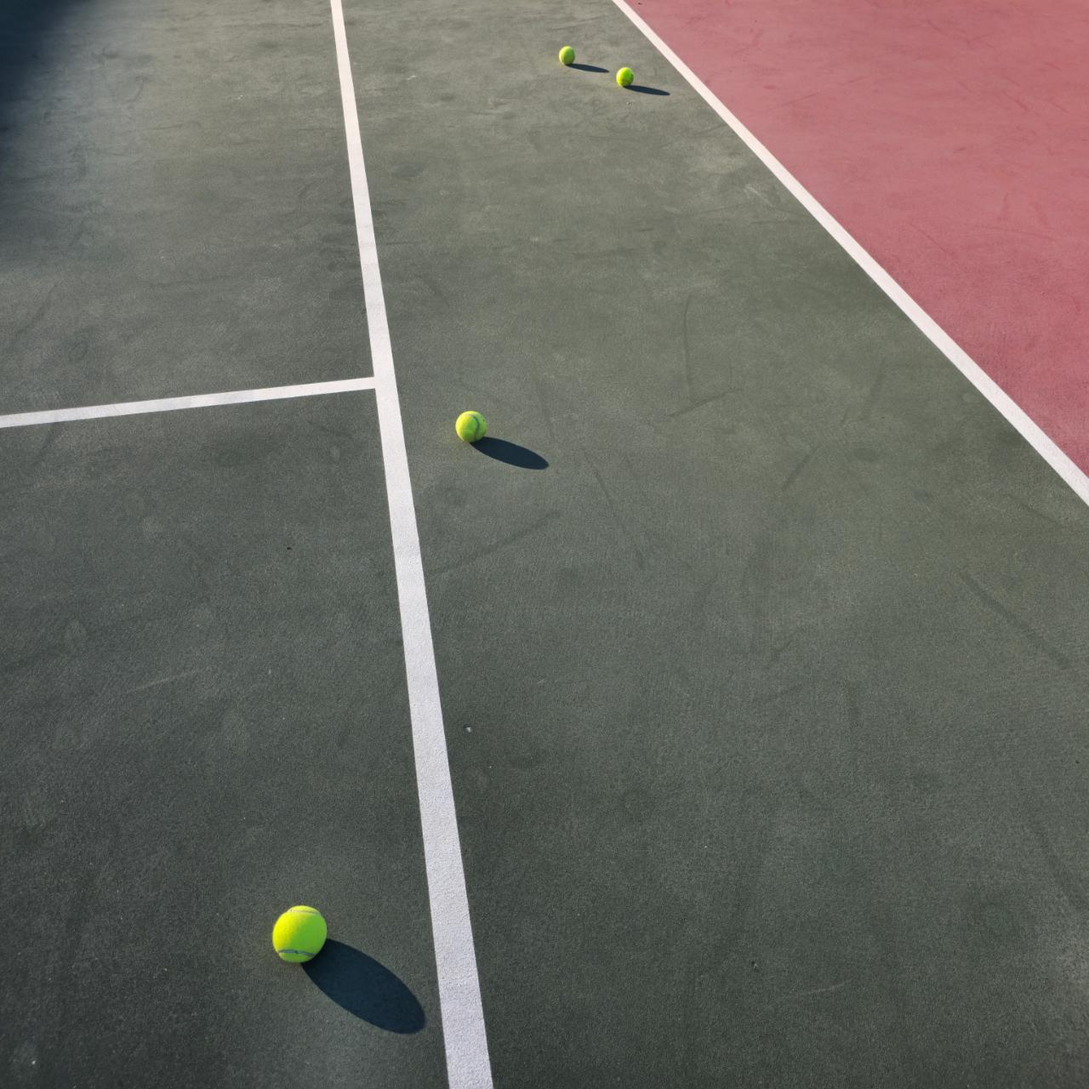tennis-ball: (270, 902, 328, 963), (453, 407, 487, 443), (614, 64, 634, 87), (556, 43, 575, 66)
